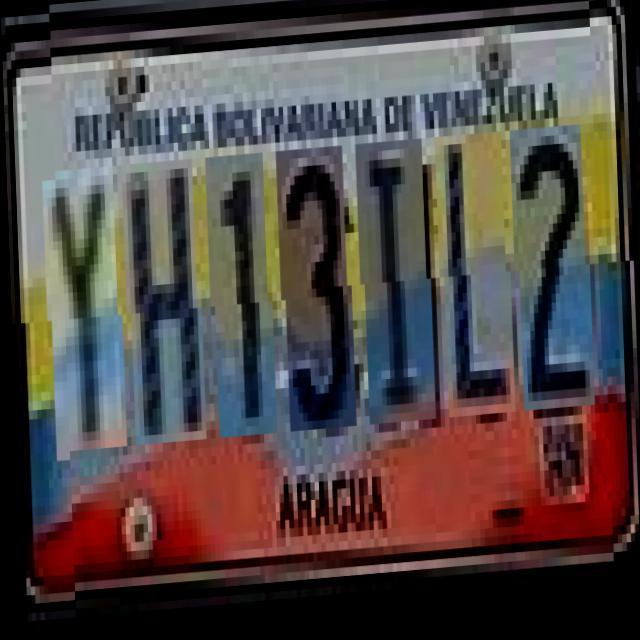1: (208, 157, 274, 442)
2: (512, 135, 592, 420)
3: (279, 152, 353, 436)
H: (124, 162, 203, 447)
I: (358, 146, 432, 431)
L: (438, 140, 512, 426)
Y: (44, 168, 124, 453)
